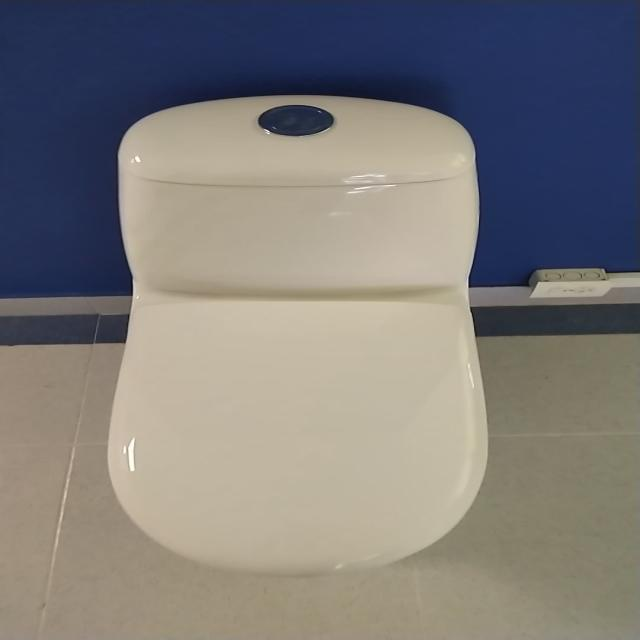toilet: (105, 93, 489, 576)
